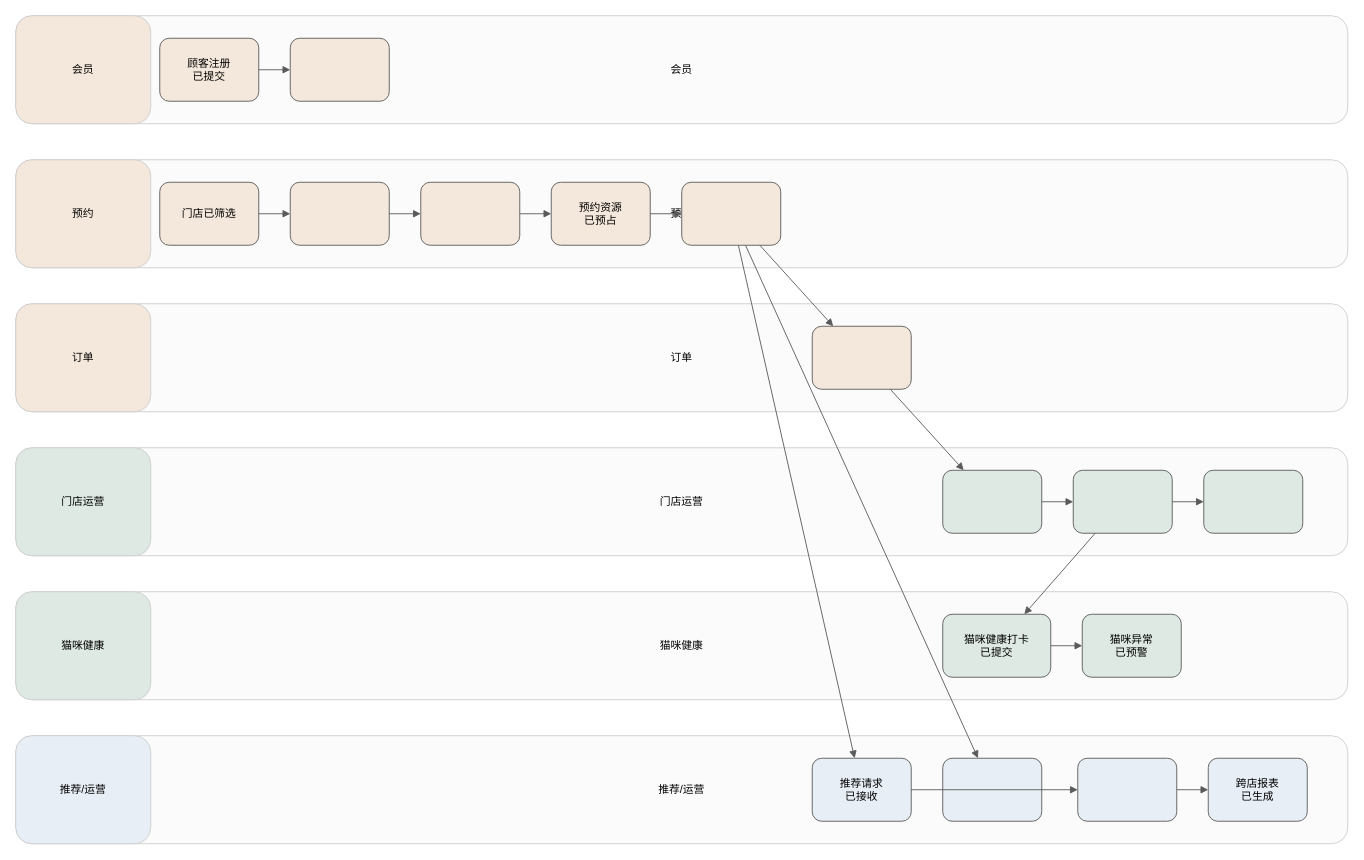
Image size: 1364x860. Some labels were removed from this diagram. The shapes that lost their labels are listed below. From the top down, each one's centre as x and y in pixels, then its label:
At [339,69]: "会员账号 已创建".
At [339,213]: "预约时段 已查询".
At [470,213]: "预约请求 已提交".
At [731,213]: "预约创建 已成功".
At [861,357]: "预约订单 已生成".
At [992,501]: "顾客已到店".
At [1122,501]: "顾客已入座".
At [1253,501]: "桌位状态 已同步".
At [992,789]: "到店提醒 已发送".
At [1127,789]: "推荐结果 已生成".
